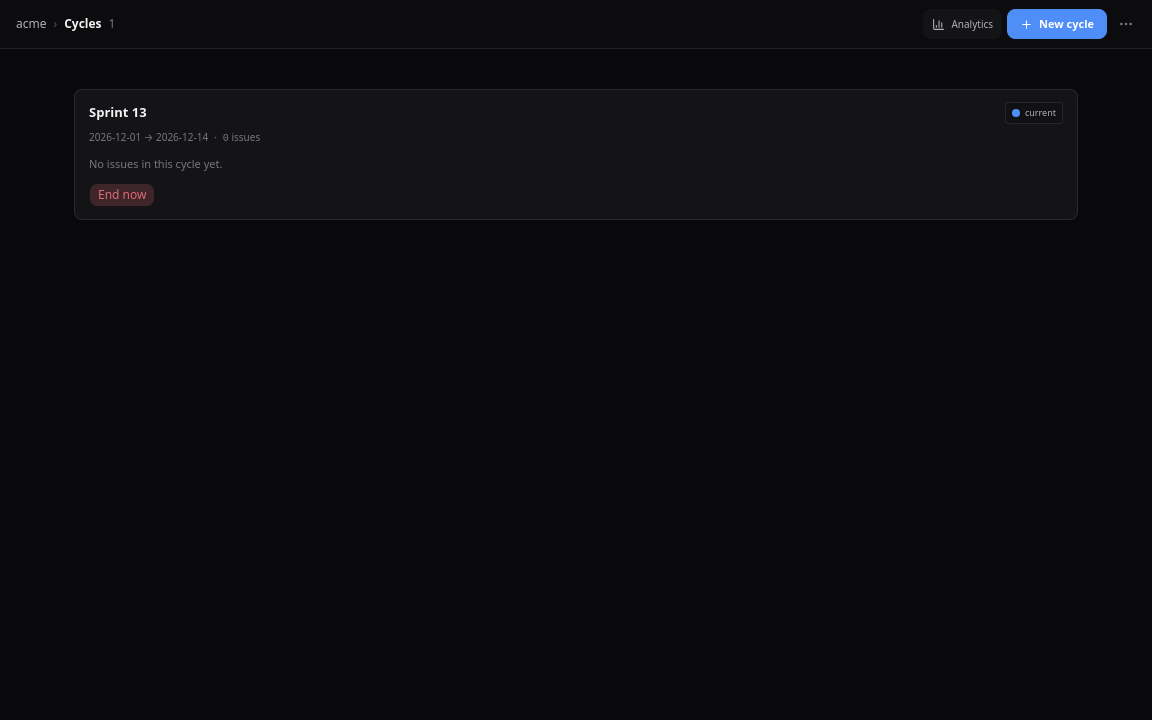
Scenario: manual start/end actions (C79T1) › shows End now for members on current cycles, behind a confirm dialog with the freeze/rollover copy
The image size is (1152, 720).
Check: the button with aria-label "Open cycle Sprint 13" is shown, box [74,89,1078,220]
Click the button "End now" at (122, 194), box [89,182,156,206]
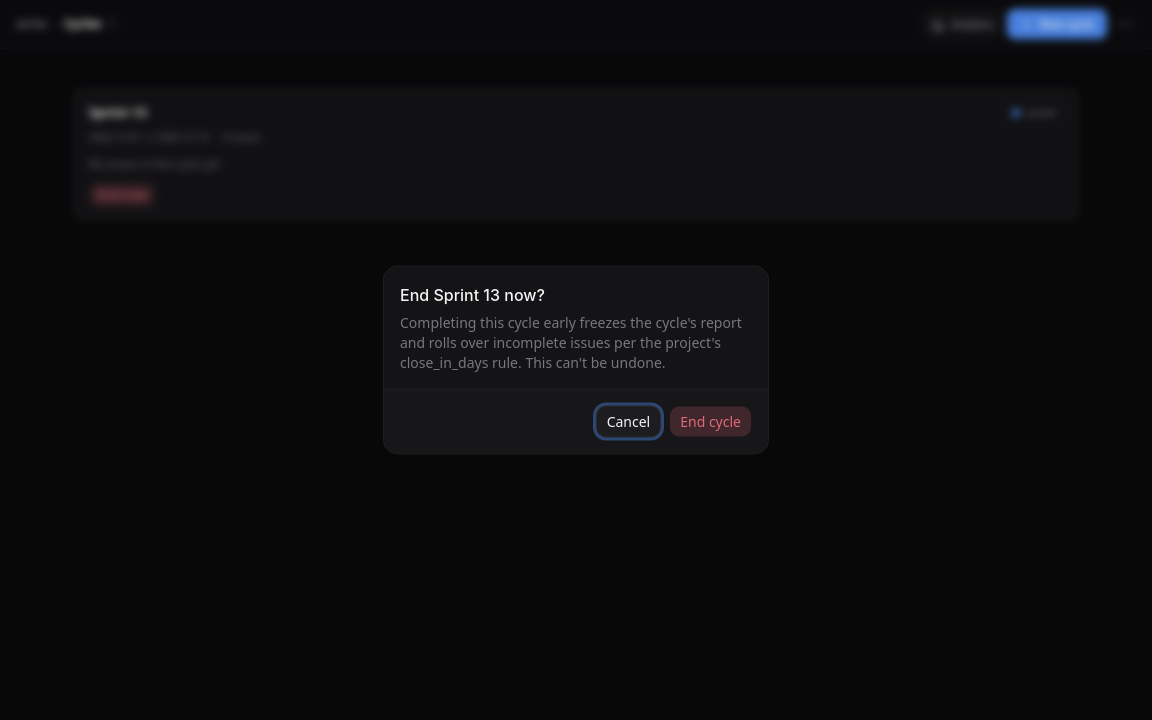
Check: the text "rolls over incomplete issues" is shown, box [400,312,742,372]
Check: the button "End cycle" is shown, box [669,406,752,438]
Check: the button "Cancel" is shown, box [596,406,661,438]
